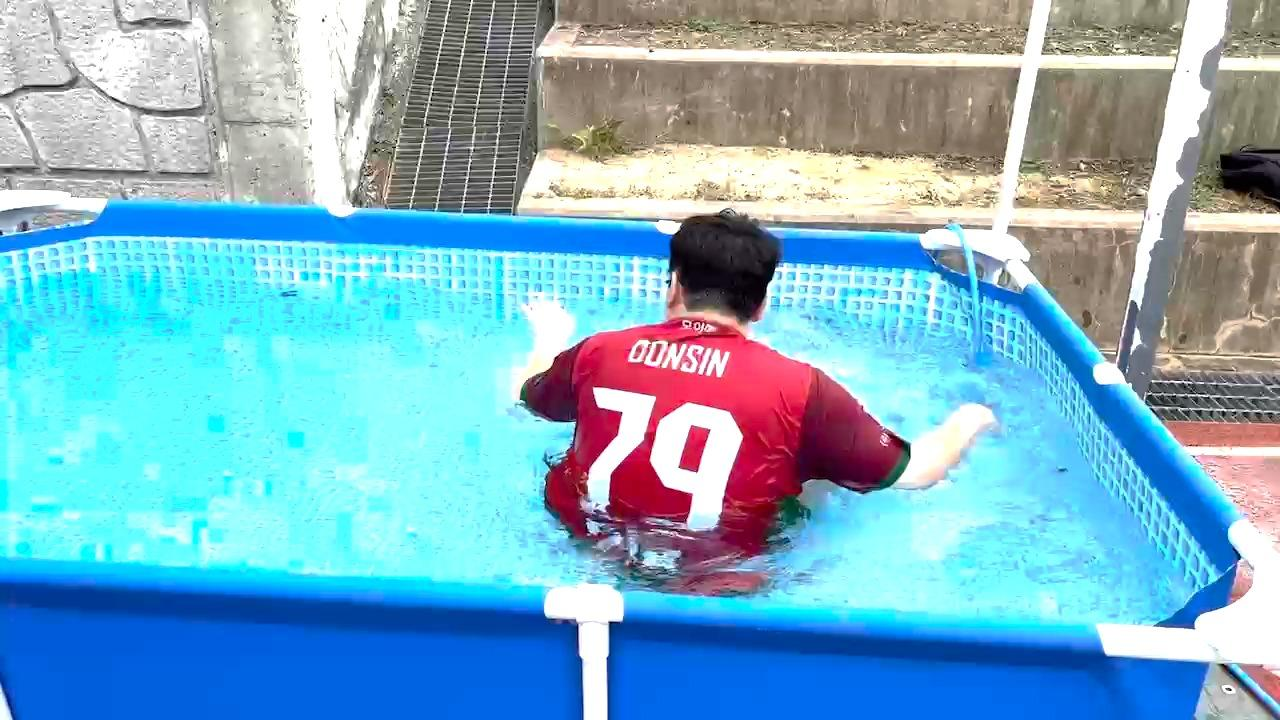Swimming: (425, 152, 1019, 609)
